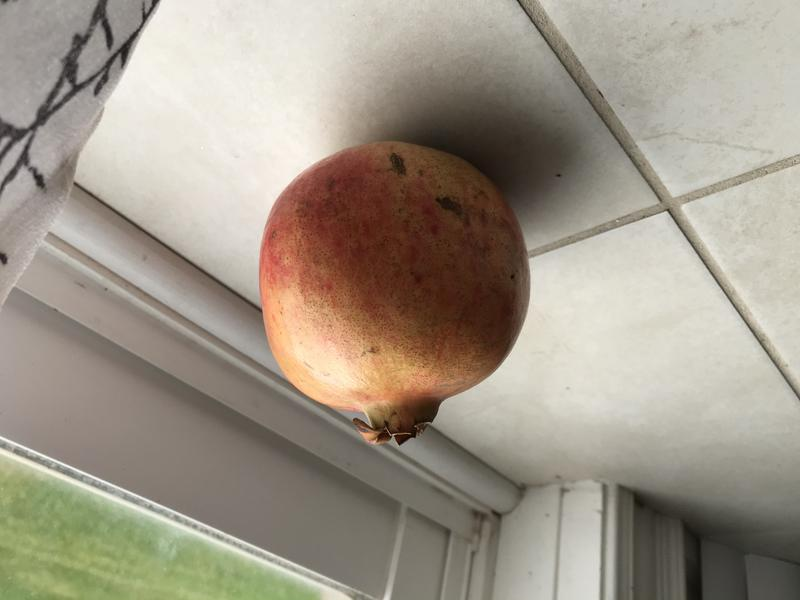pomegranate: (247, 132, 542, 471)
